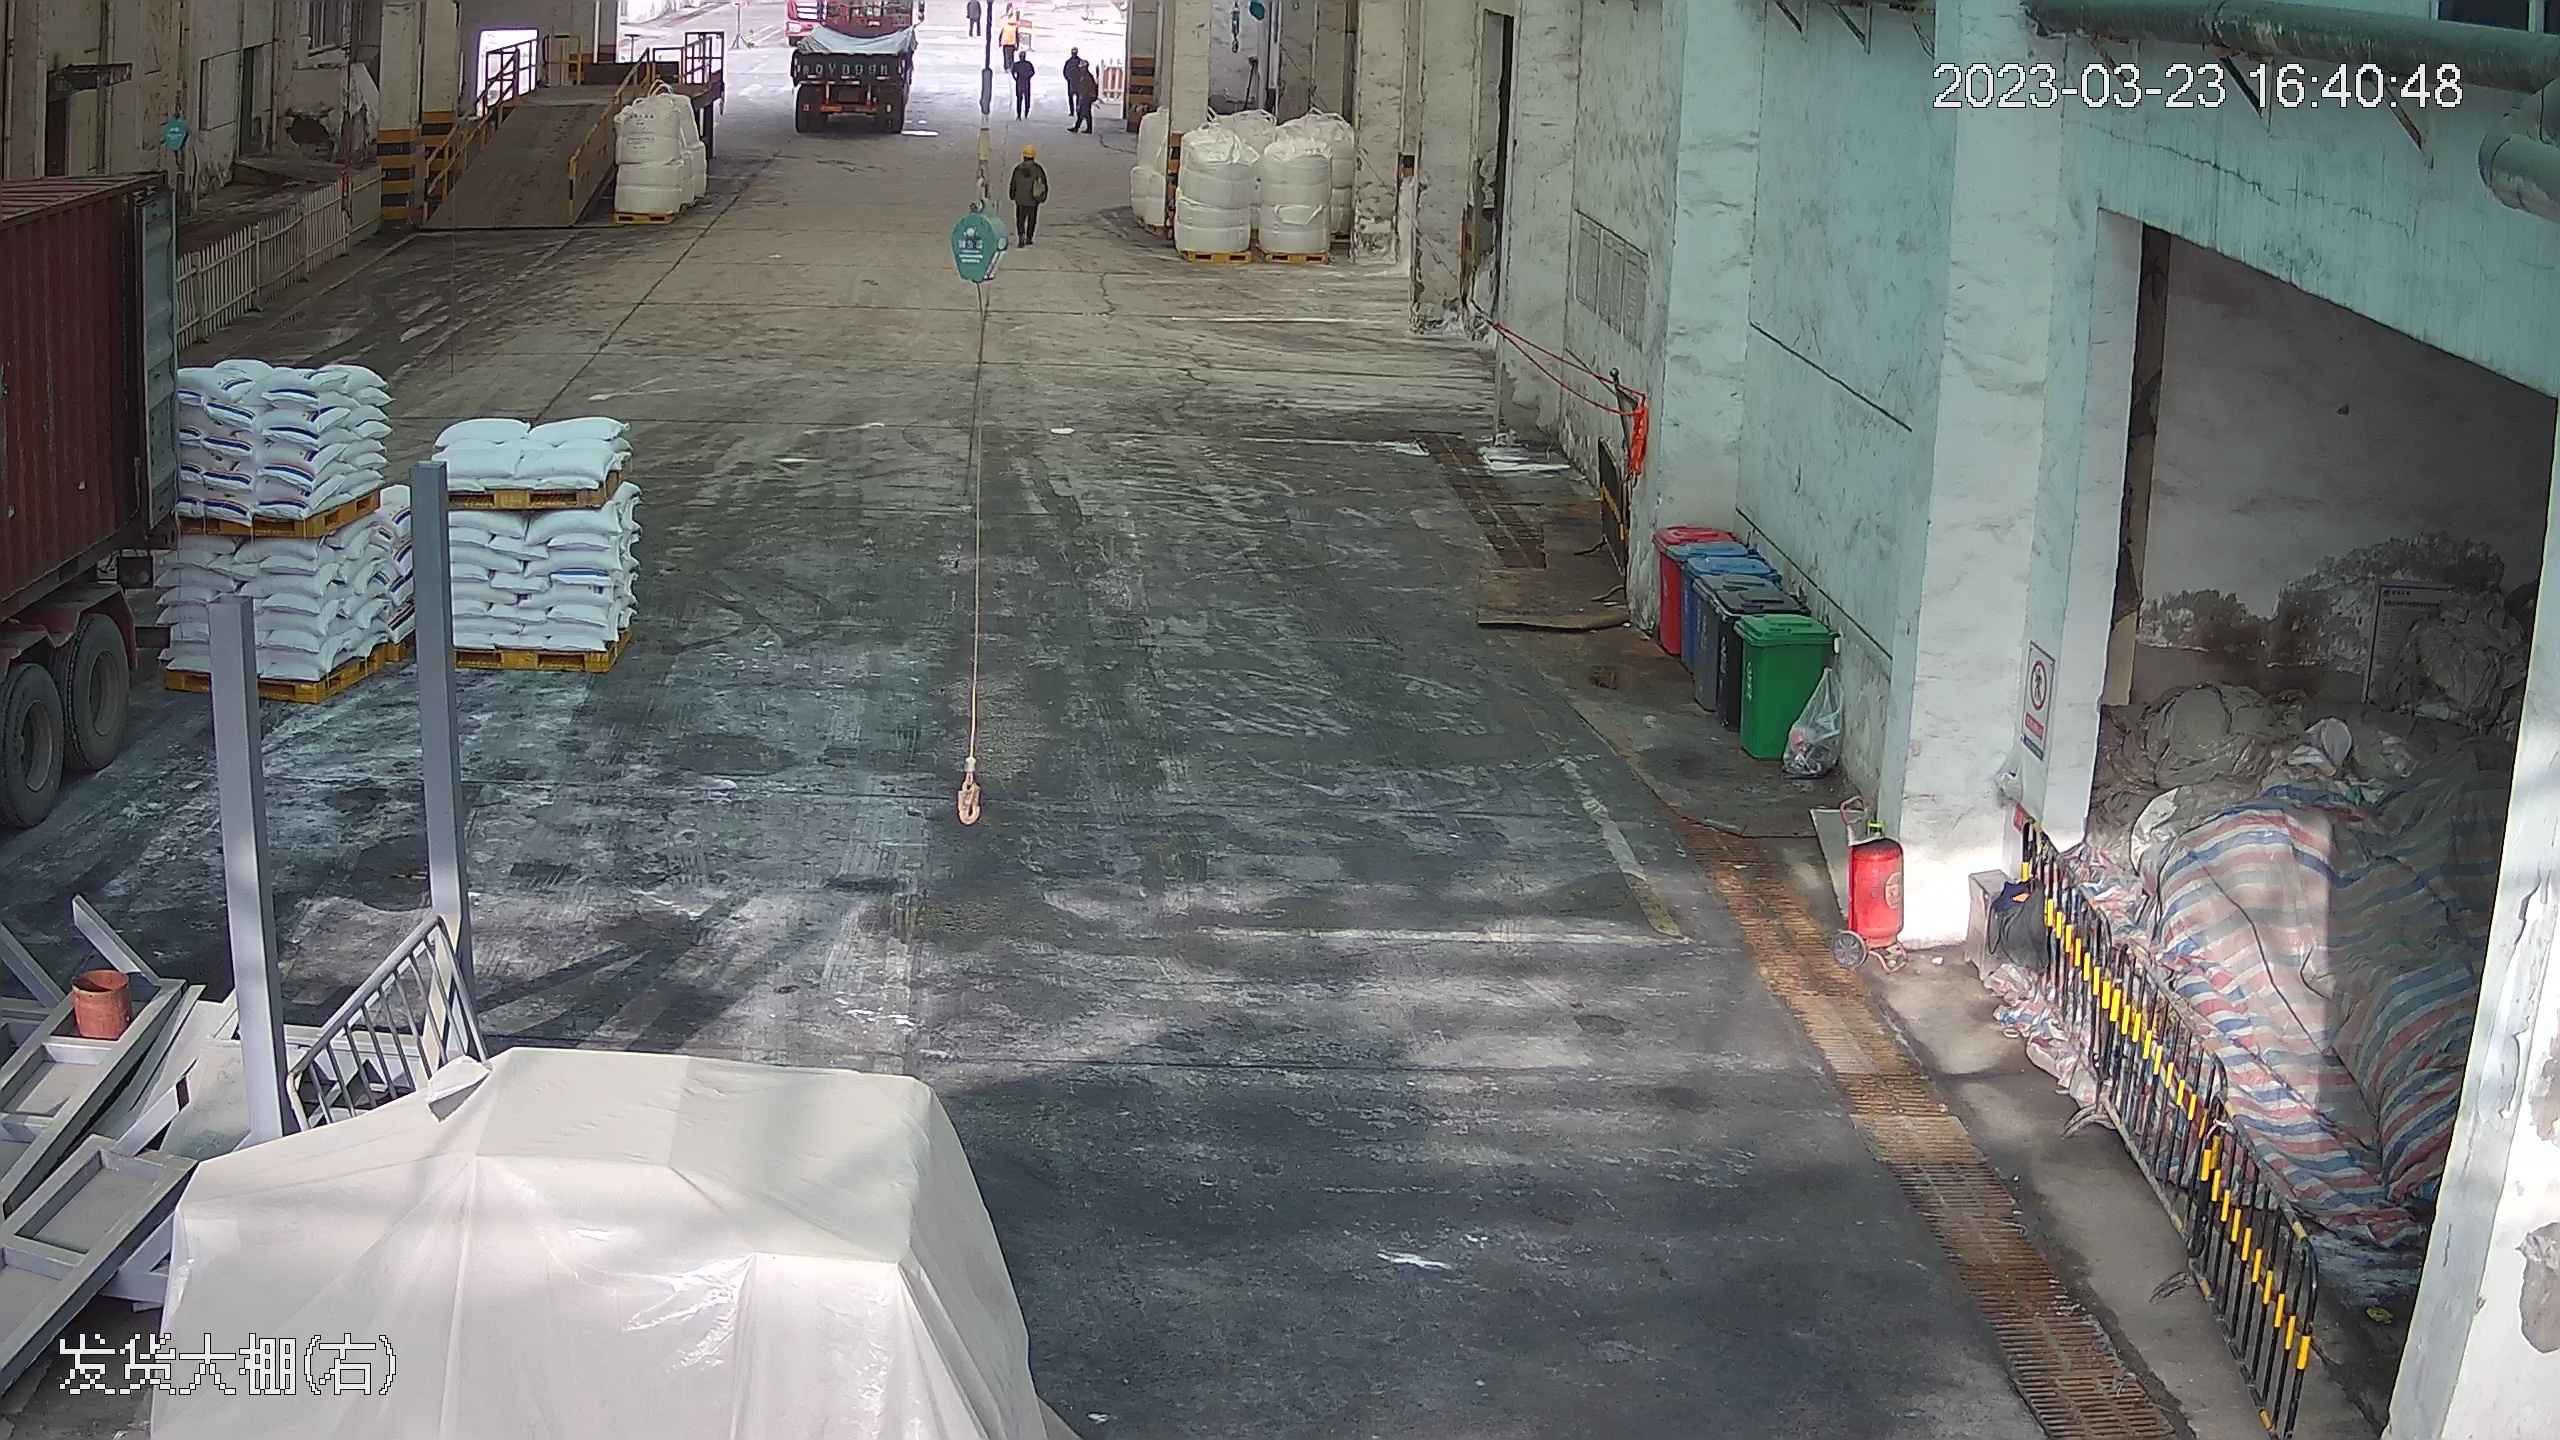head: (1010, 138, 1047, 182), (1064, 41, 1092, 71), (1012, 49, 1033, 75), (1078, 58, 1096, 90)
helmet: (1019, 141, 1041, 161), (1078, 59, 1088, 68), (1019, 49, 1027, 57)
people: (1004, 138, 1048, 255), (1066, 57, 1099, 133), (1008, 48, 1037, 118)
truck: (1, 5, 202, 1204), (778, 1, 927, 135)
